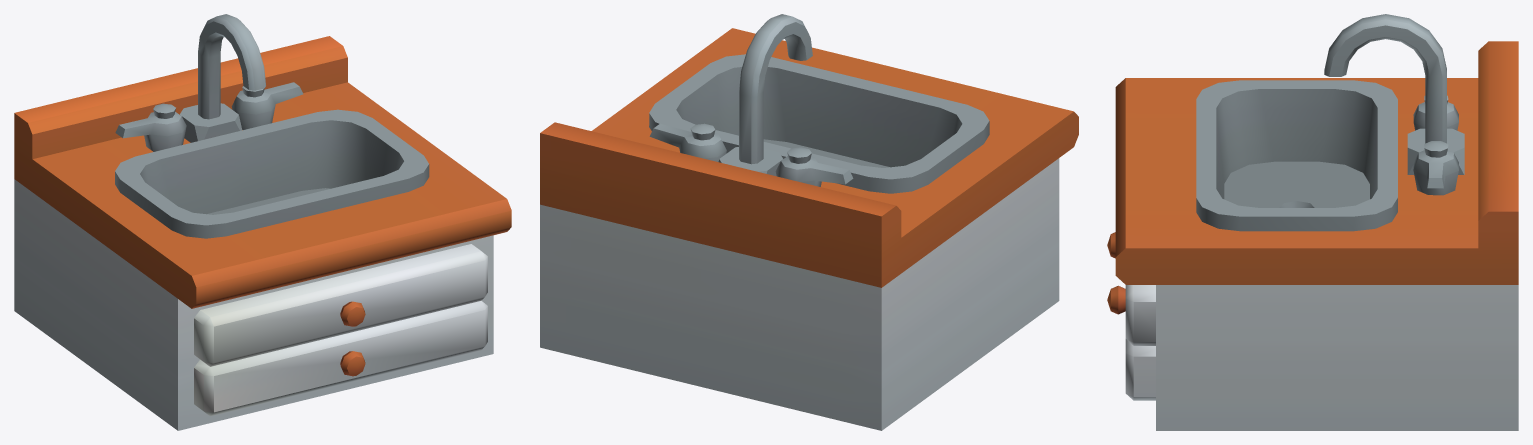
File: kay-pia.gltf
3 views of the same model, side by side, from view 1: azimuth 30°, elevation 25°; view 2: azimuth 150°, elevation 25°; view 3: azimuth 270°, elevation 25° (orthographic). The views are drawn at different scales.
Parts seen in each view (by area): view 1: kitchencounter_sink_backsplash; view 2: kitchencounter_sink_backsplash; view 3: kitchencounter_sink_backsplash.
Boxes of the visible parts, <box> form: kitchencounter_sink_backsplash: <box>14,14,511,430</box>; kitchencounter_sink_backsplash: <box>540,14,1078,430</box>; kitchencounter_sink_backsplash: <box>1107,14,1518,430</box>.
Bounding box in the file's own units: 1.3 × 1.17 × 1.33.
Materials: 1 (1 with a texture image).
